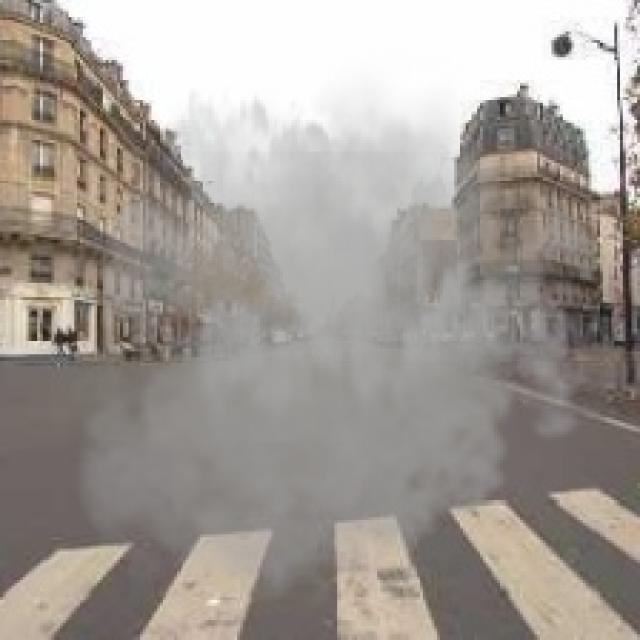smoke: (63, 51, 617, 620)
